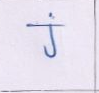anusvara: (49, 13, 54, 18)
